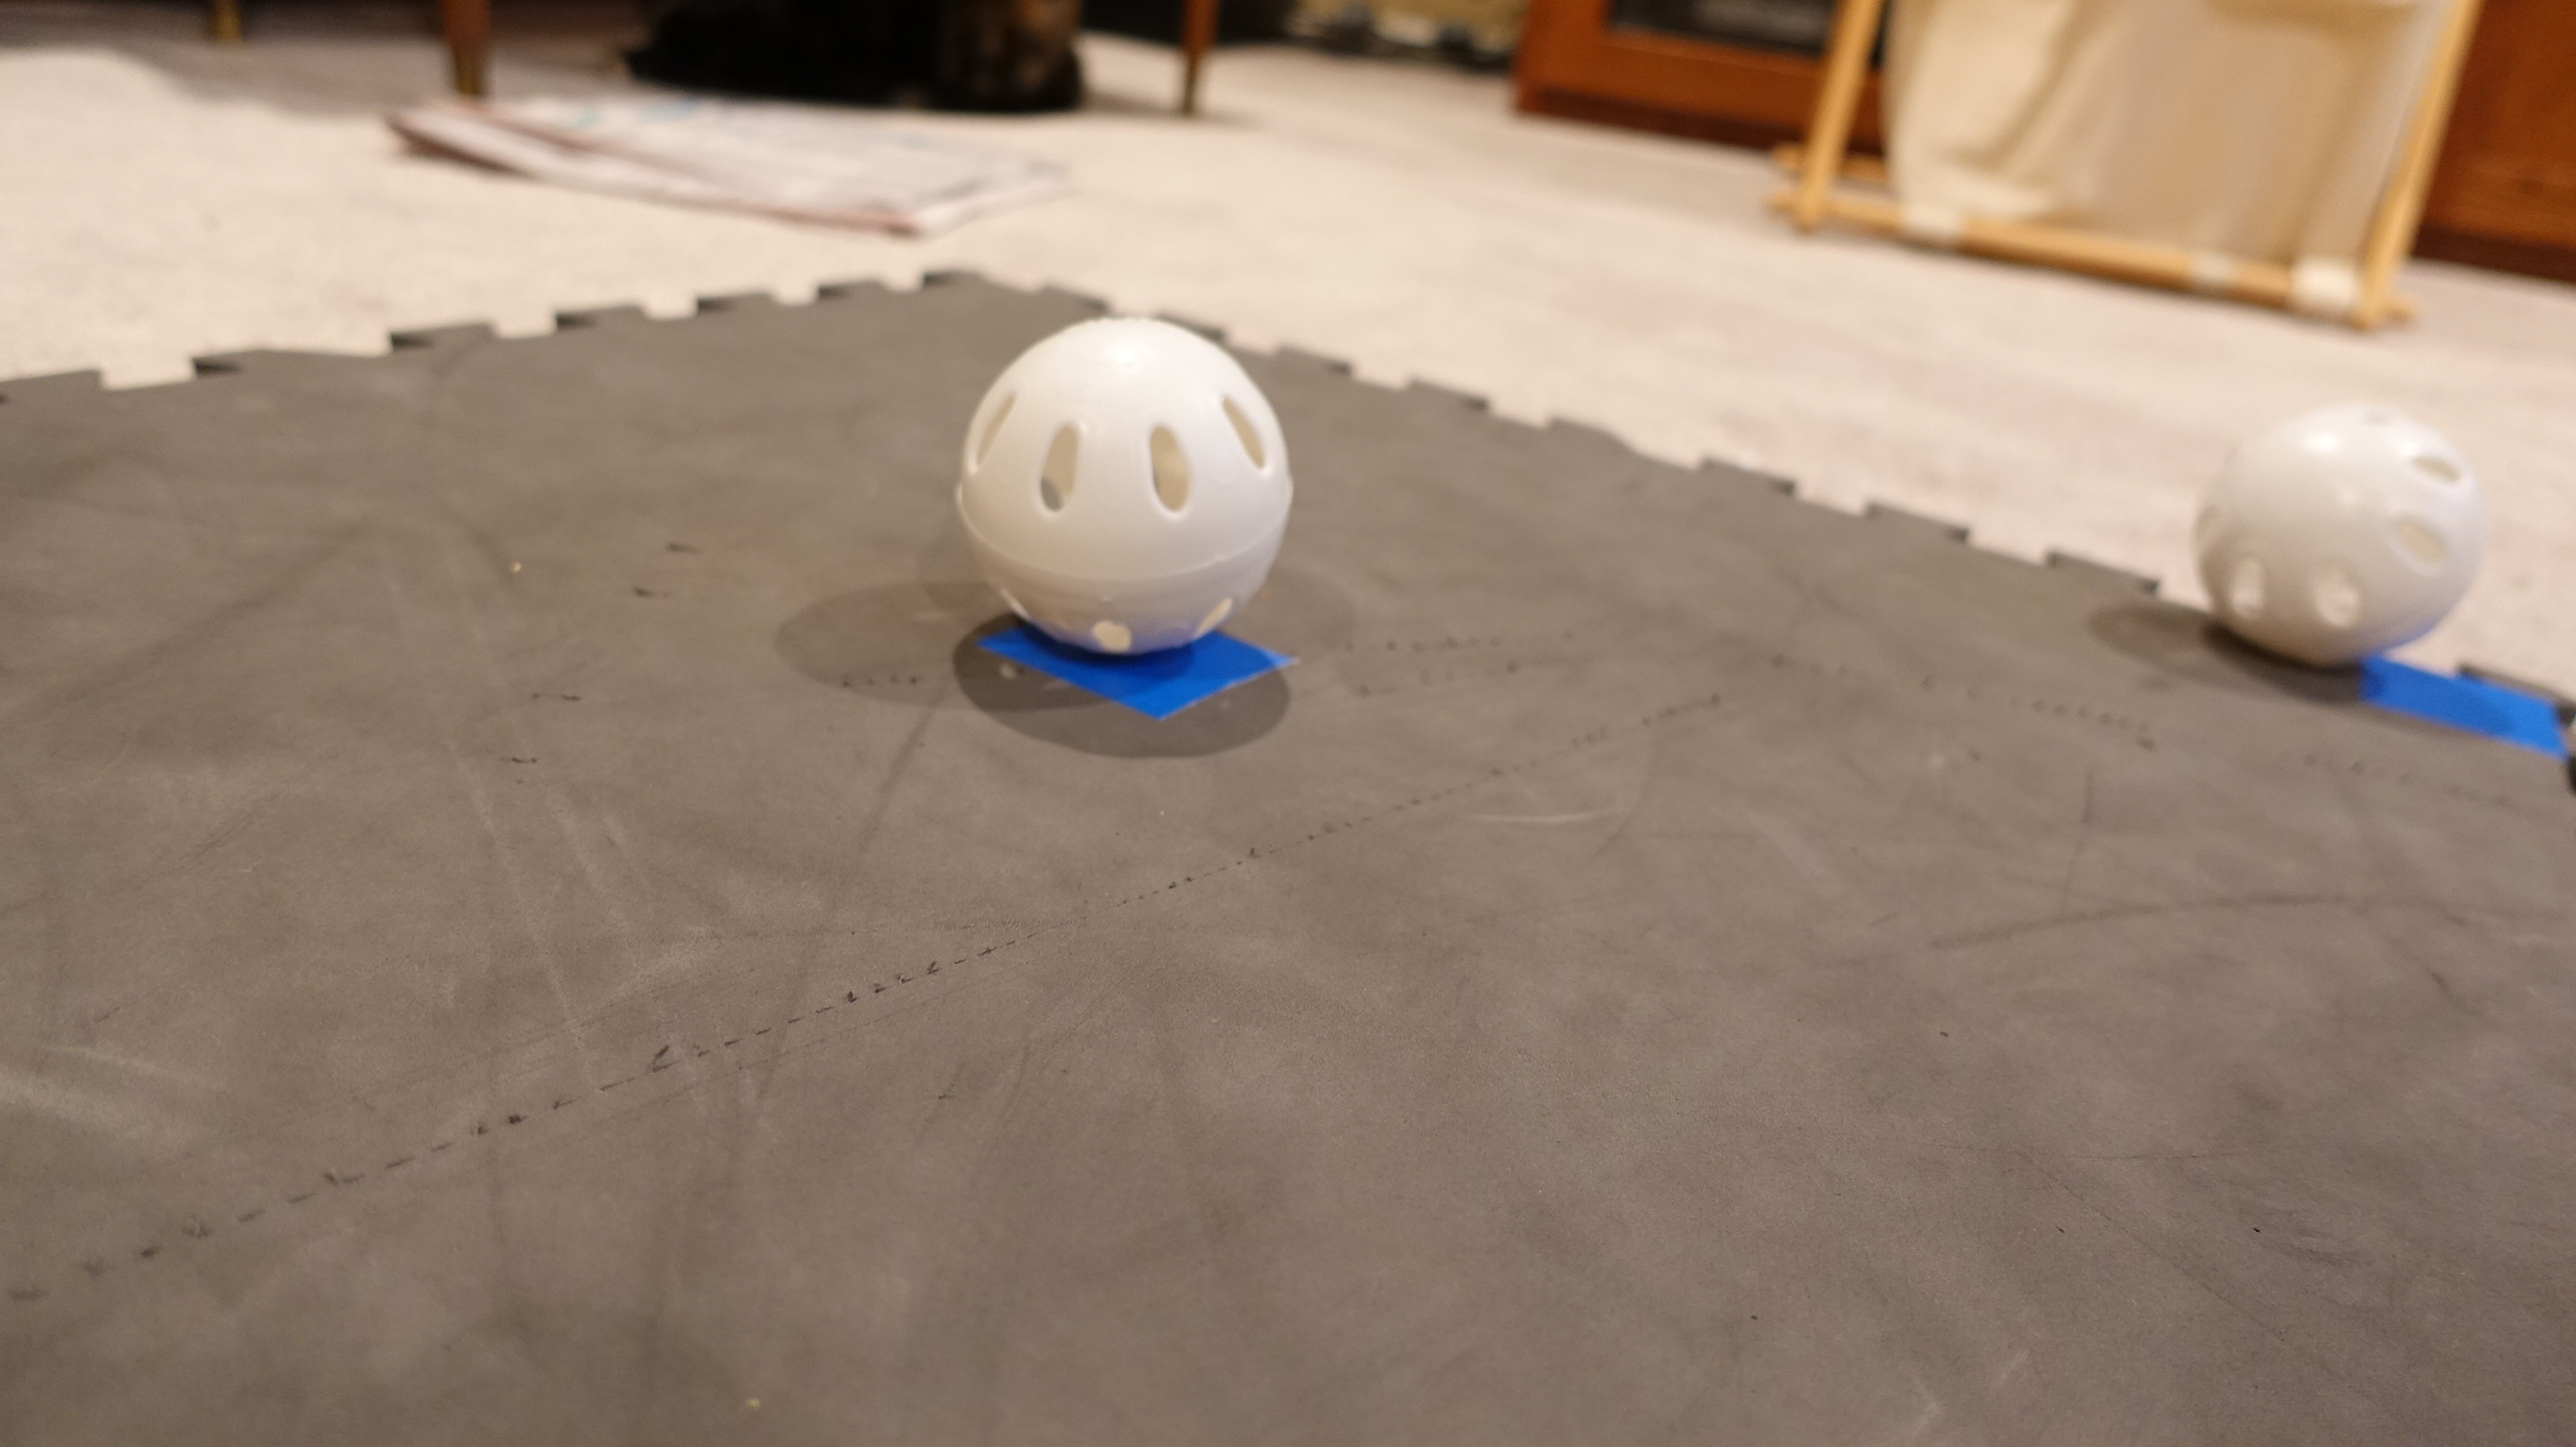silver: (955, 306, 1304, 663), (2192, 387, 2488, 672)
